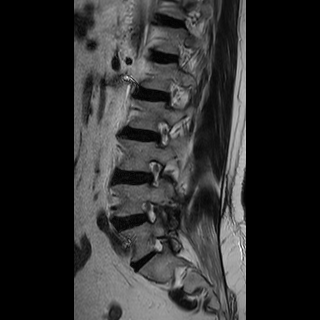LFS0: (138, 155, 175, 192), (149, 114, 180, 153), (135, 194, 168, 230)
